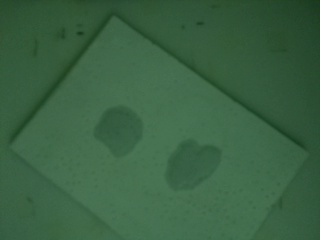Water_detected: (98, 107, 137, 154), (177, 149, 216, 189)
